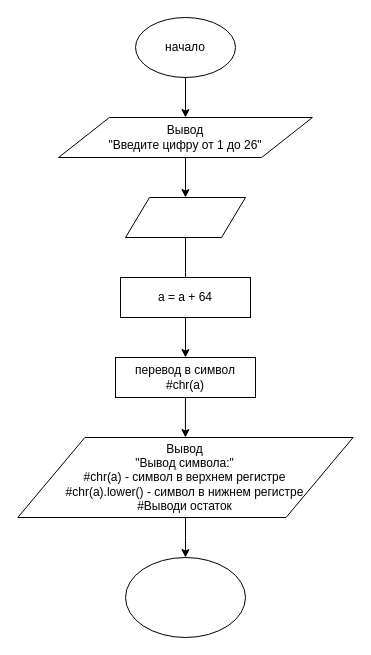
This 371x655 diagram has some shape labels left out. The shapes that lost their labels are listed below. From the top down, each one's centre as x and y in pixels, then its label:
At (x=185, y=217): "Ввод a".
At (x=185, y=597): "Конец".
